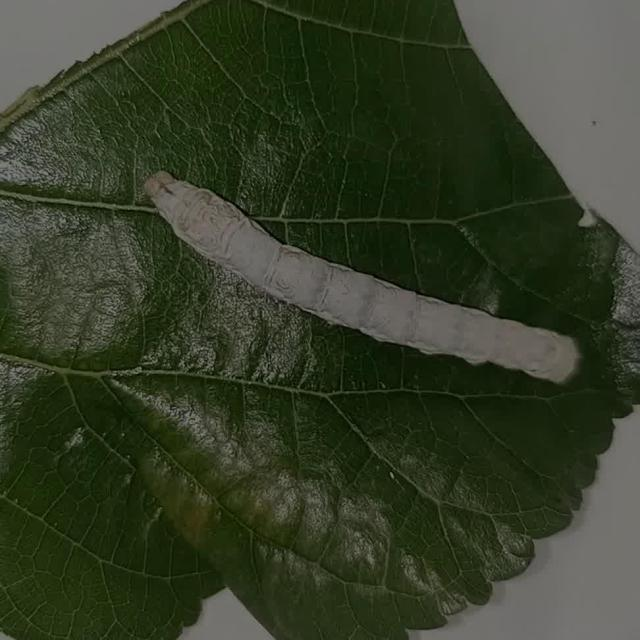Healthy: (121, 103, 594, 421)
